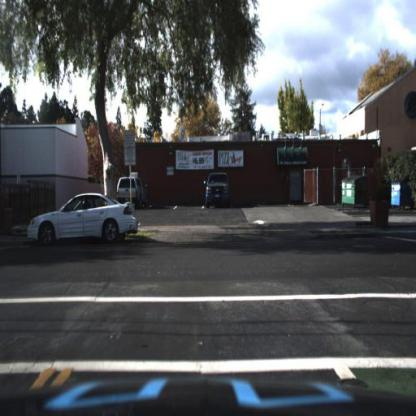car: (27, 187, 145, 258), (203, 169, 234, 211), (114, 174, 146, 207)
